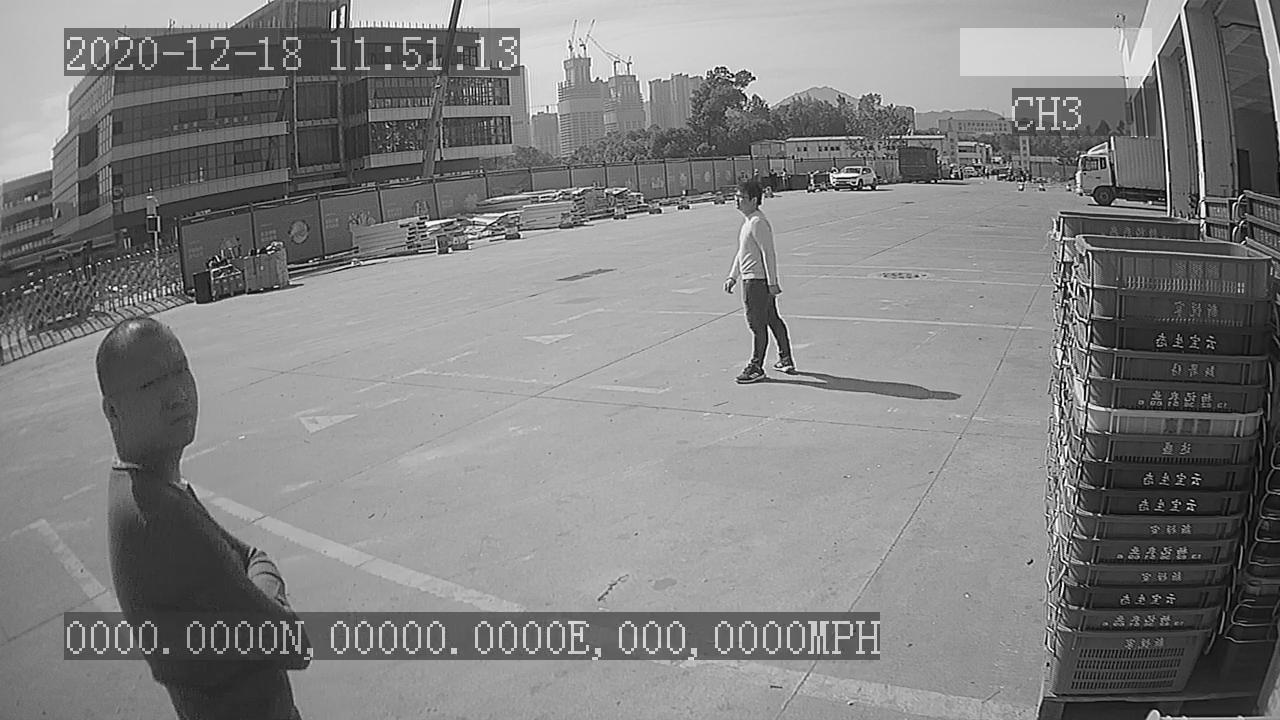person: (717, 177, 797, 392)
